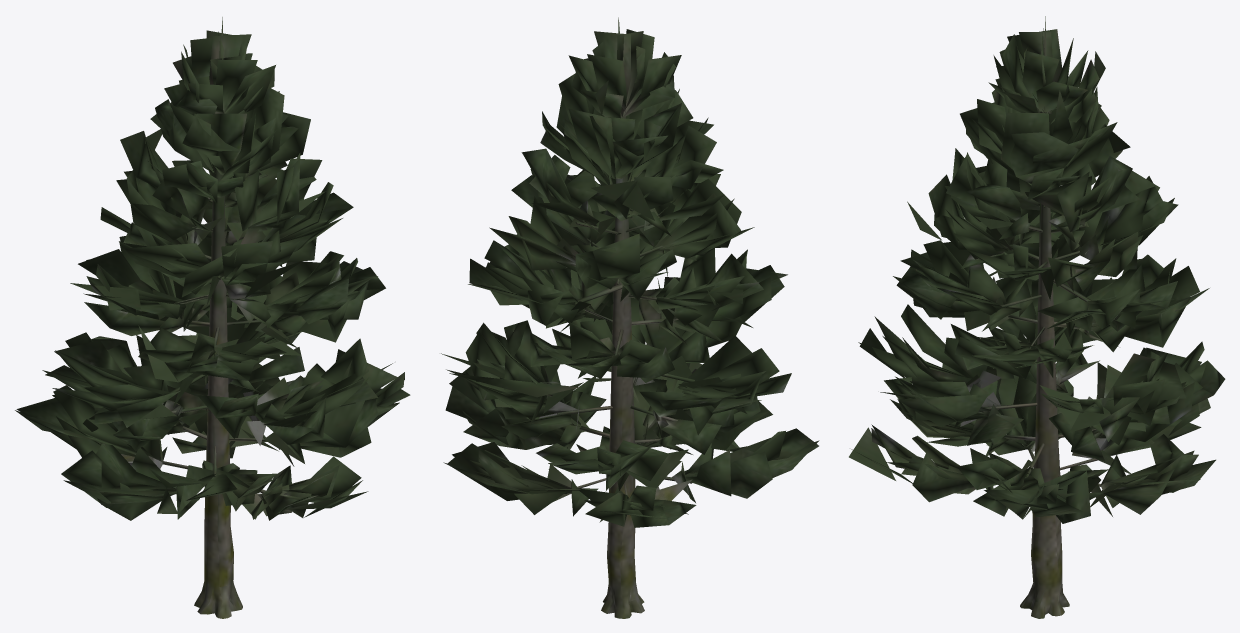
Rendered from Meshy_AI_Pine_tree_1025063153_texture.glb.
The picture shows the model from 3 angles, left to right: view 1: azimuth 30°, elevation 25°; view 2: azimuth 150°, elevation 25°; view 3: azimuth 270°, elevation 25°; orthographic projection.
Size of the model in its own units: 0.5684 by 0.9521 by 0.5449.
1 material, 1 textured.
